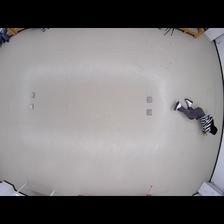fall: (174, 96, 219, 138)
